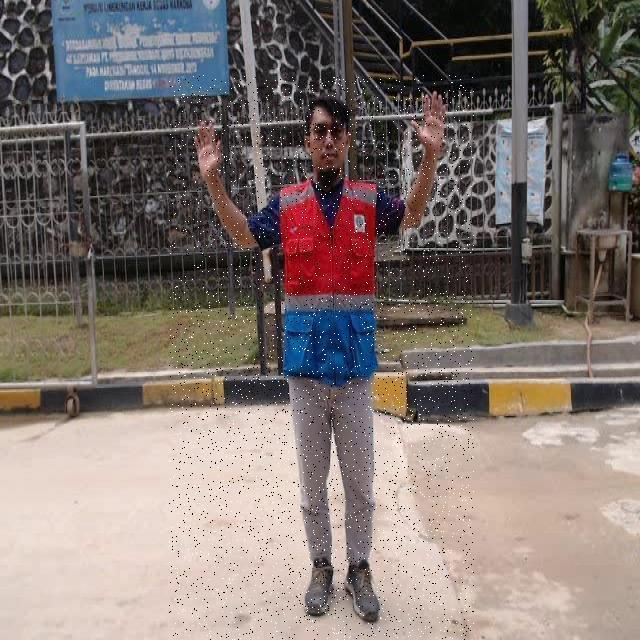boots: (344, 560, 380, 622), (305, 558, 334, 616)
person: (193, 90, 447, 622)
vest: (245, 174, 386, 380)
